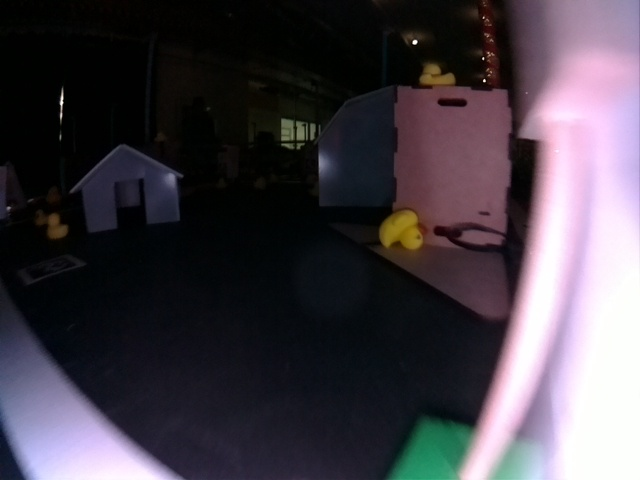Duckie: (378, 210, 427, 250), (419, 63, 455, 85), (46, 215, 69, 238), (34, 210, 45, 224)
QR code: (18, 253, 84, 285)
